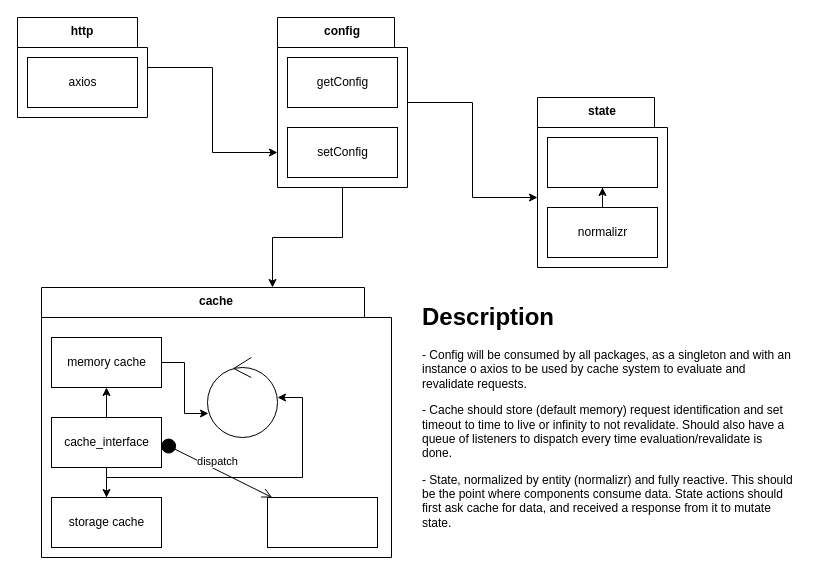
This 815x575 diagram has some shape labels left out. Each missing label, with the centre of its shape:
"listeners" goes at point (322, 522).
"store" goes at point (602, 162).
"time to live" goes at point (242, 397).
